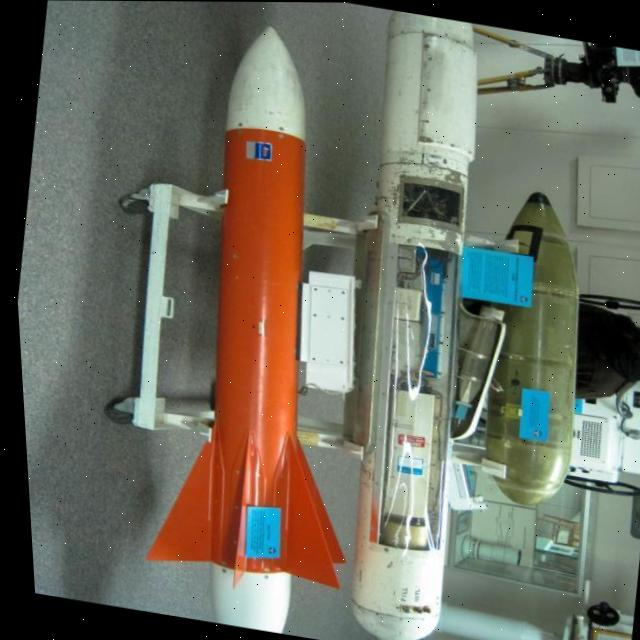missile: (105, 7, 411, 631), (311, 15, 529, 640), (463, 177, 616, 515)
